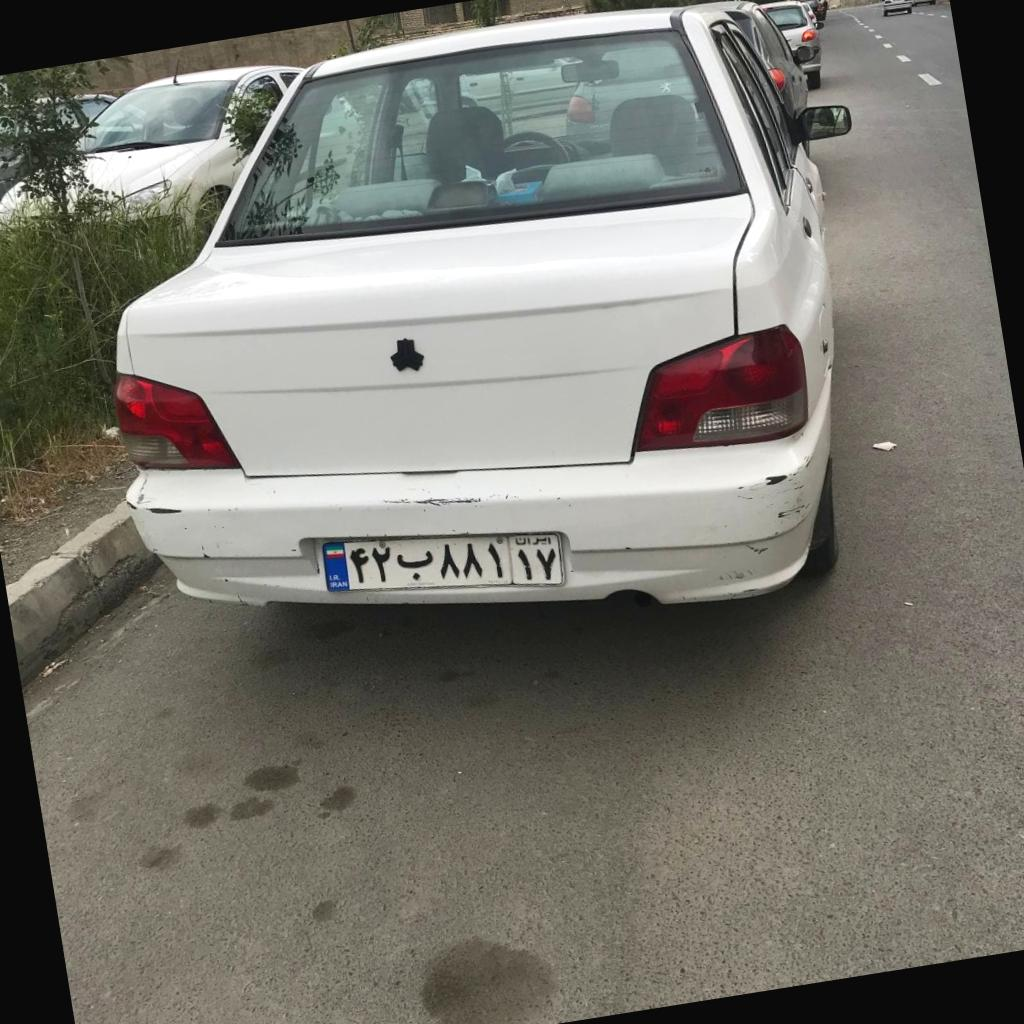Plates: (321, 532, 565, 590)
